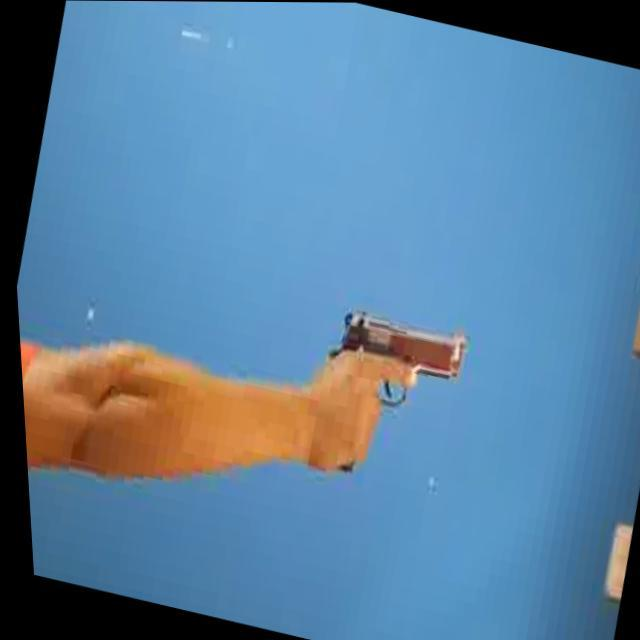weapon: (284, 298, 475, 506)
